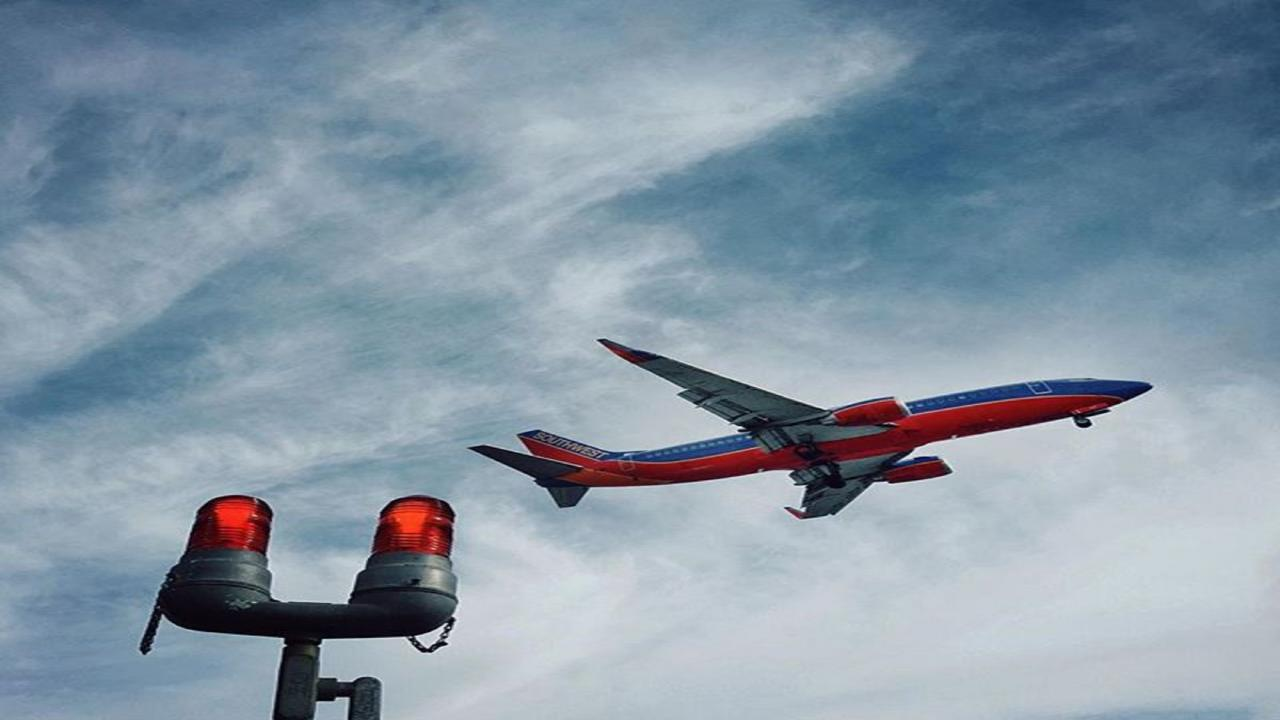Airplane: (461, 329, 1169, 532)
